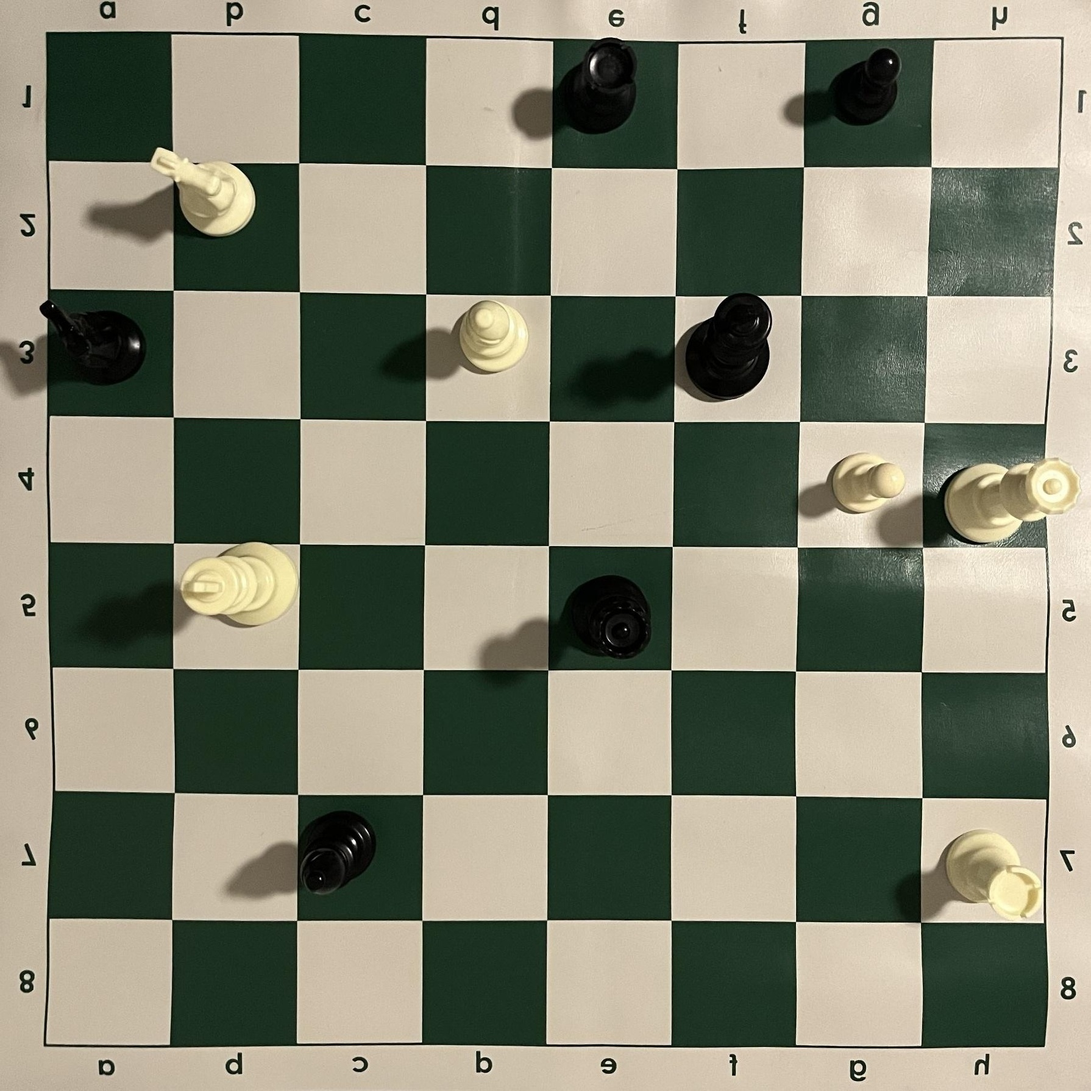black_bishop: (297, 810, 377, 897)
black_king: (684, 293, 773, 401)
black_knight: (39, 299, 147, 386)
black_pawn: (831, 47, 901, 127)
black_queen: (567, 575, 654, 661)
black_rook: (561, 37, 639, 137)
white_bishop: (458, 300, 529, 374)
white_king: (179, 541, 298, 627)
white_knight: (149, 146, 258, 238)
white_pawn: (831, 453, 906, 516)
white_queen: (942, 456, 1082, 545)
white_rook: (946, 829, 1044, 920)
